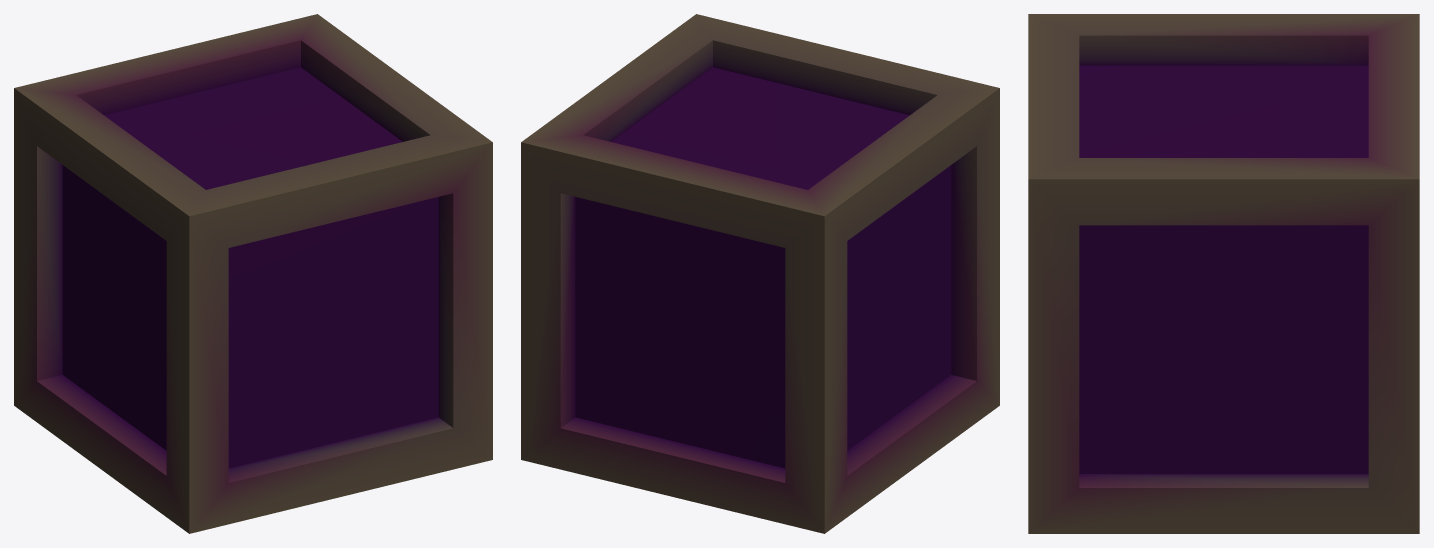
3 renders of one model, left to right at view 1: azimuth 30°, elevation 25°; view 2: azimuth 150°, elevation 25°; view 3: azimuth 270°, elevation 25°, orthographic. The views are drawn at different scales.
Visible parts, largest first — view 1: framed_body; view 2: framed_body; view 3: framed_body.
Part boxes in pixels (bbox=[...]): framed_body: bbox=[14, 14, 492, 533]; framed_body: bbox=[521, 14, 999, 533]; framed_body: bbox=[1028, 14, 1419, 533].
Size of the model in its own units: 0.6 by 0.6 by 0.6.
